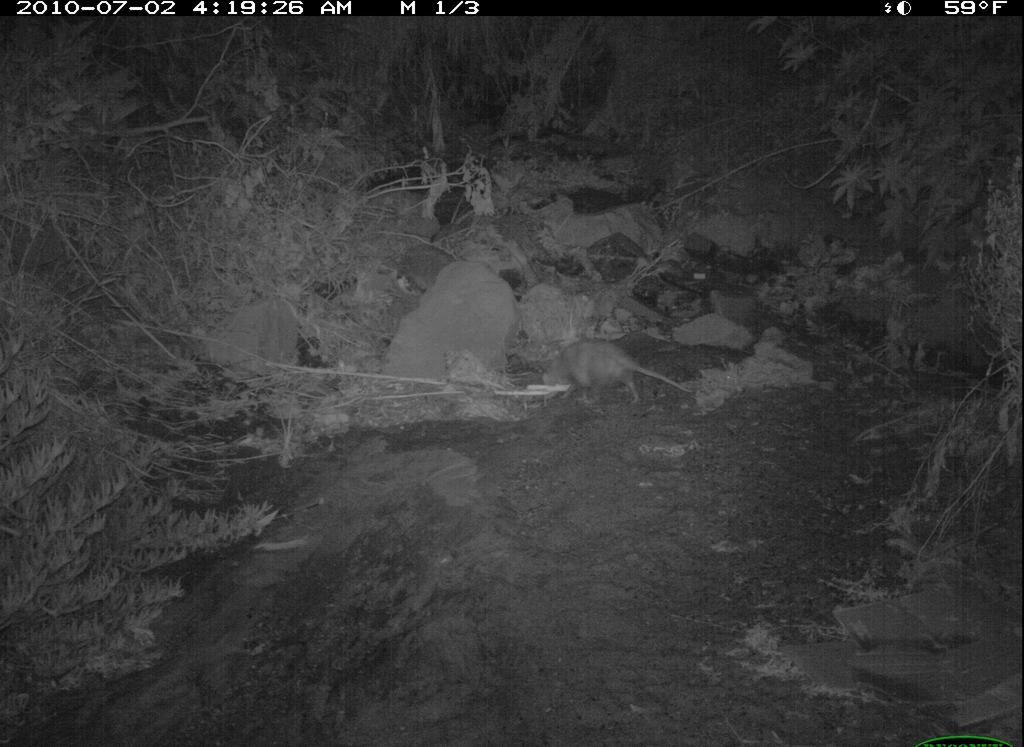opossum: (527, 333, 702, 422)
